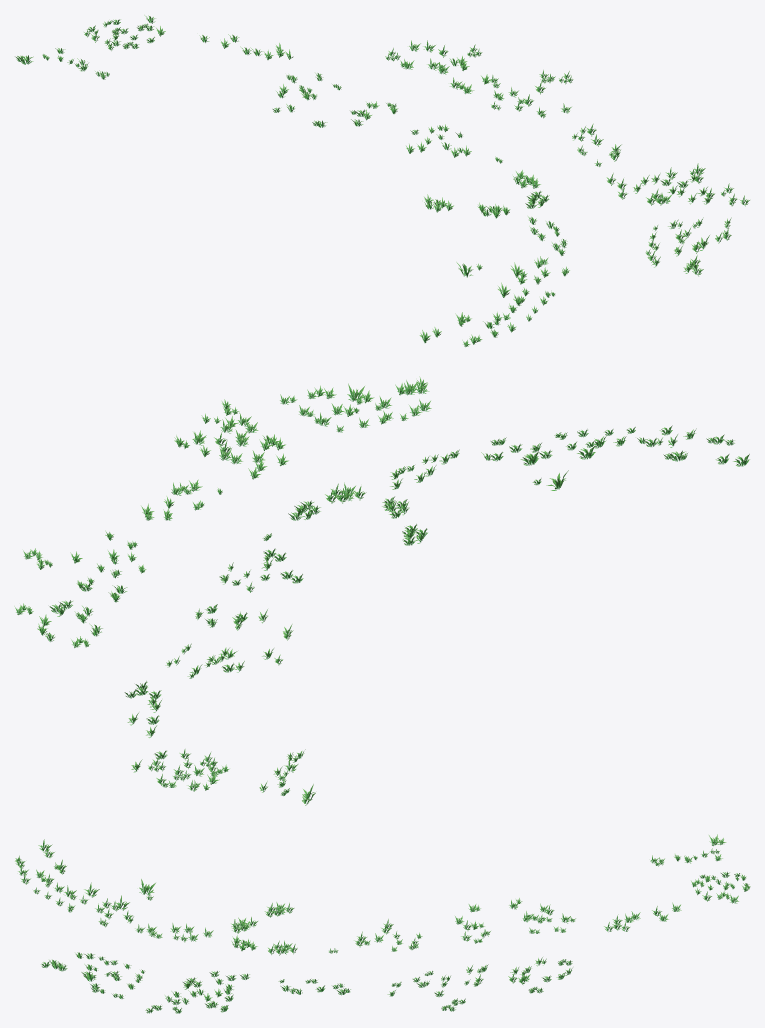
Rendered from Area_11_20.fbx.
The picture shows the model from 3 angles, top to bottom: view 1: azimuth 30°, elevation 25°; view 2: azimuth 150°, elevation 25°; view 3: azimuth 270°, elevation 25°; orthographic projection. The views are drawn at different scales.
Visible parts, largest first — view 1: Area_11_20; view 2: Area_11_20; view 3: Area_11_20.
Part boxes in pixels (x1=…): Area_11_20: x1=15, y1=15, x2=749, y2=346; Area_11_20: x1=14, y1=376, x2=749, y2=805; Area_11_20: x1=15, y1=834, x2=750, y2=1013.
Size of the model in its own units: 3974 by 154 by 7159.
